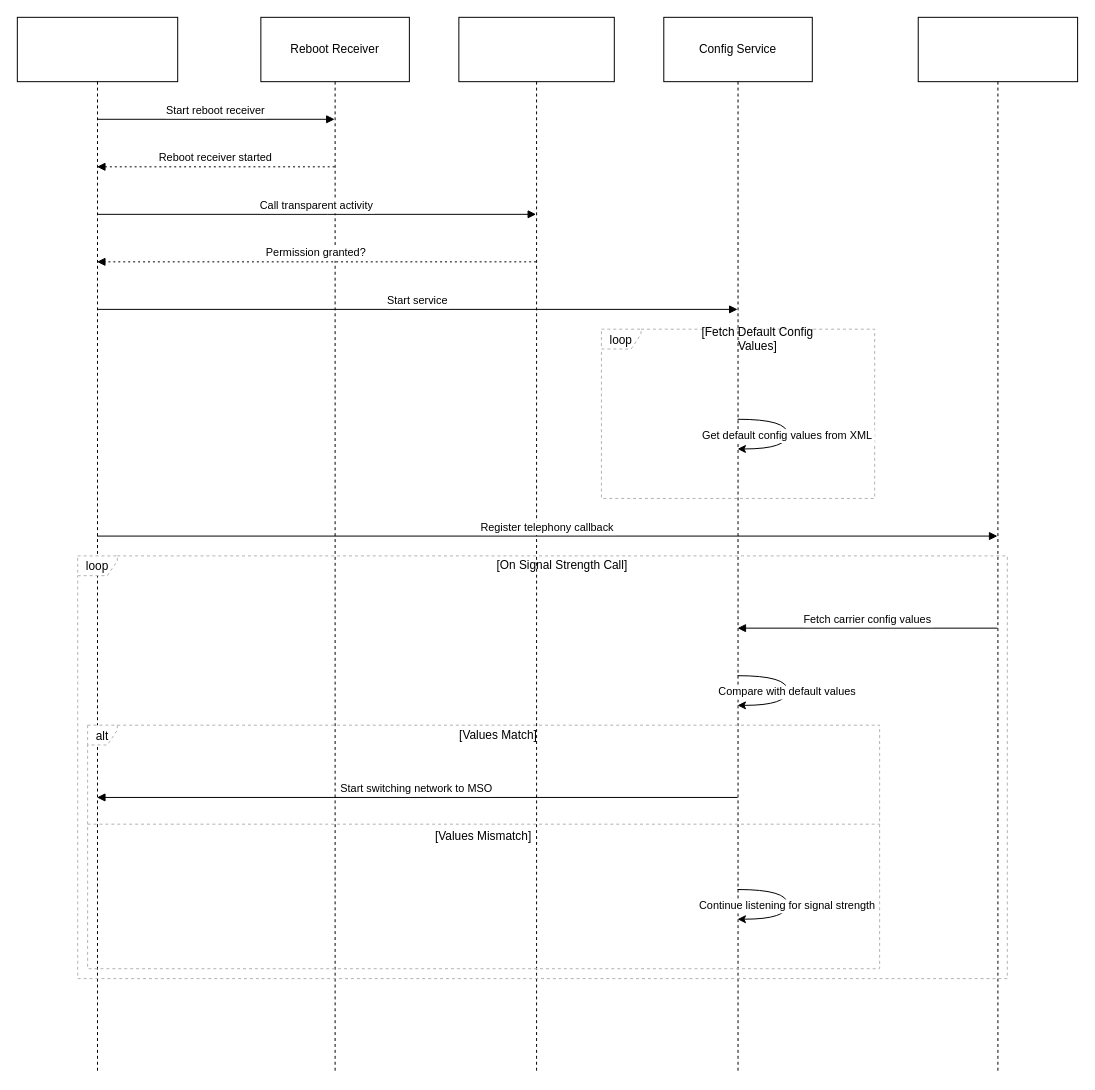
Image size: 1095x1090. Some labels were removed from this diagram. The box of each missing label's shape, as (x1, y1, x2, y2) in pixels:
Android Application: (16, 16, 178, 1073)
Permission Activity: (458, 16, 614, 1073)
Telephony Callback: (917, 16, 1078, 1073)
